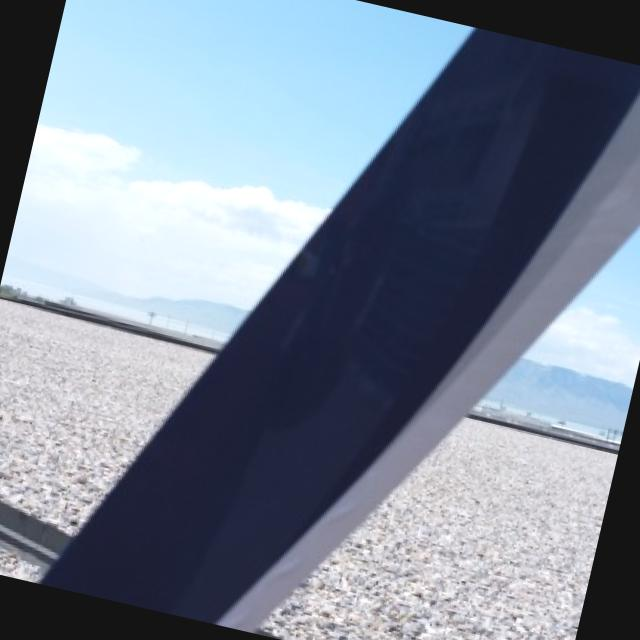healthy: (41, 29, 640, 627)
